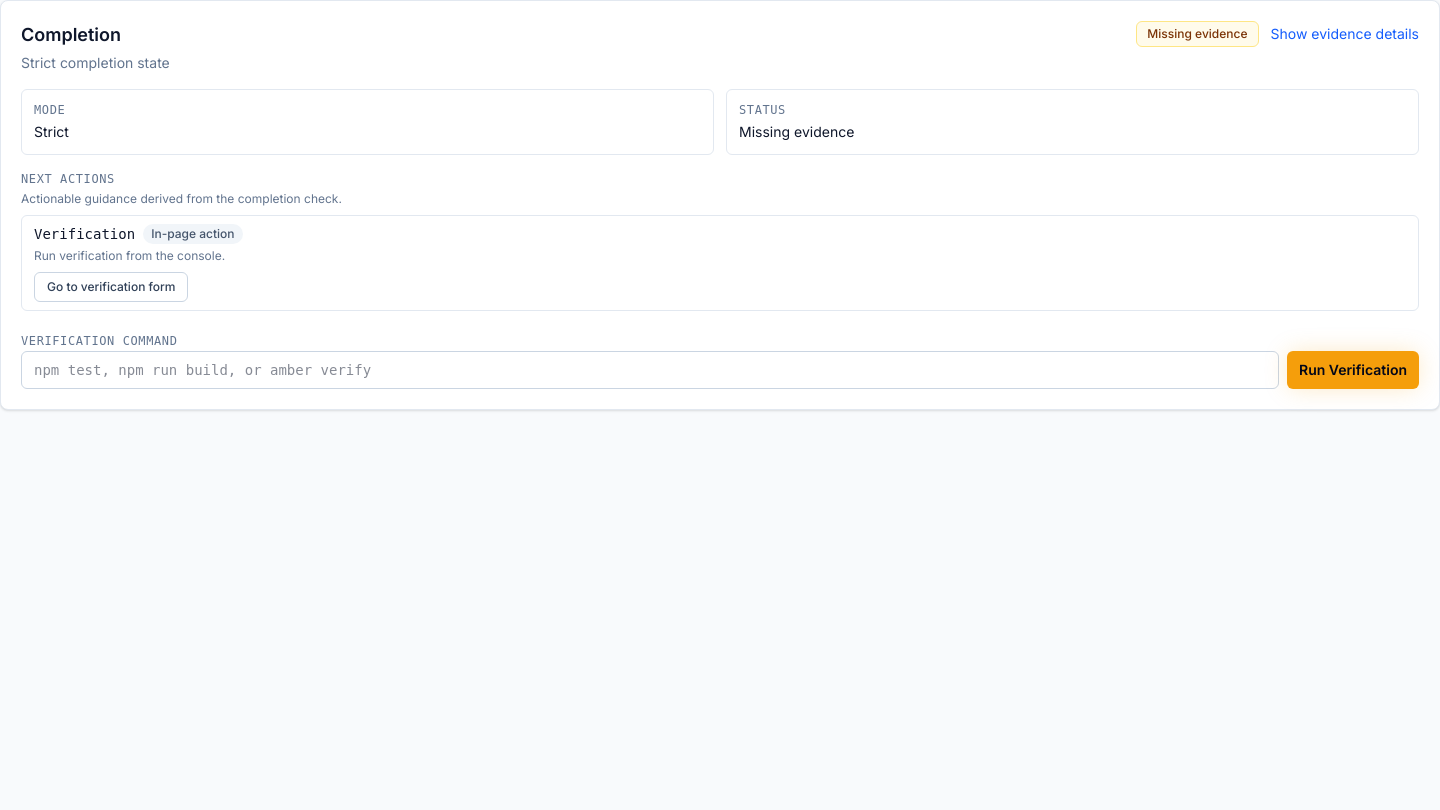
Scenario: SessionCompletionWorkbench primary/secondary layering › expands the secondary region and renders localized backend evidence
Click the button "Show evidence details".
click(1345, 34)  # box [1270,24,1419,44]
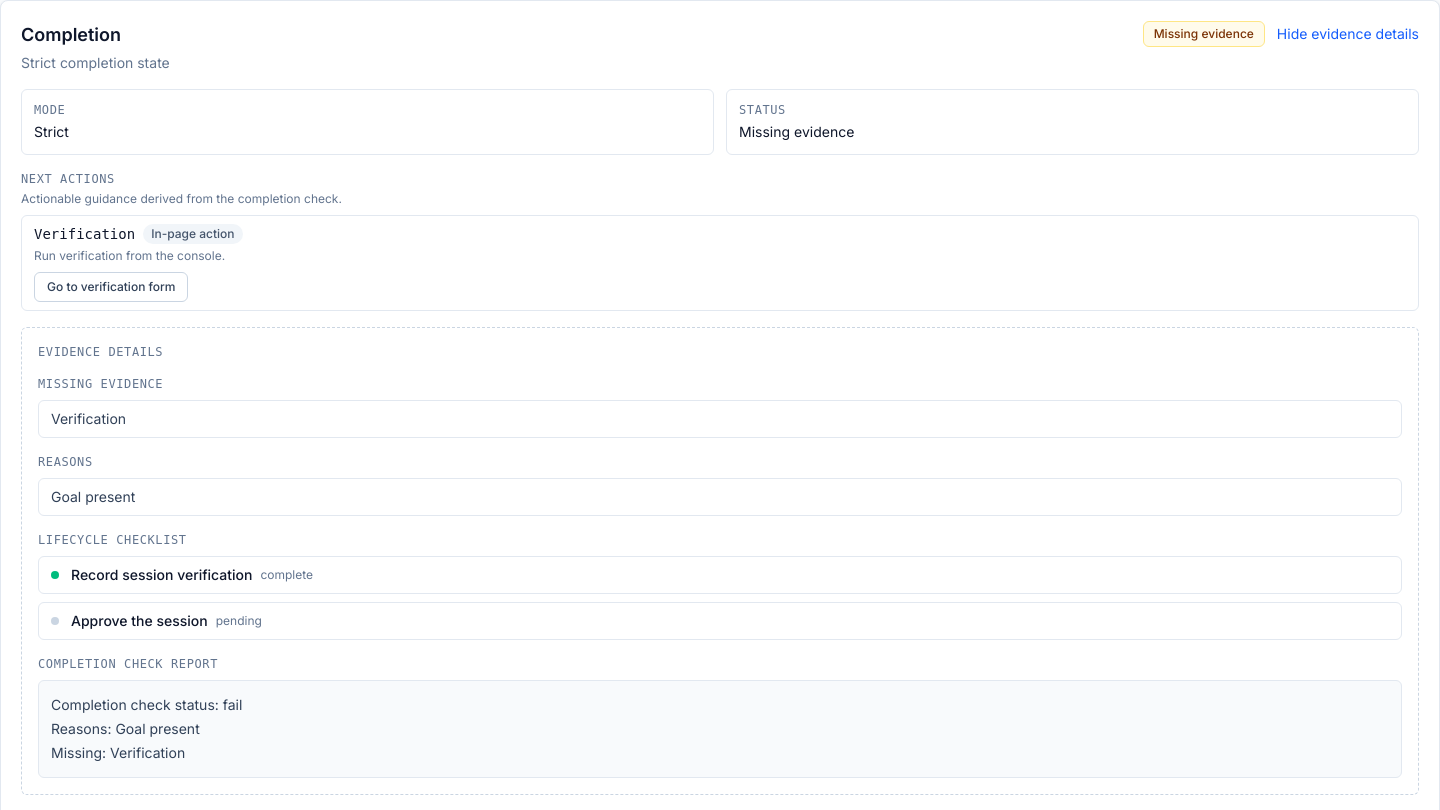
Expected: the button "Hide evidence details" is expanded, [1277,24,1419,44]
Expected: the heading "Missing Evidence" is shown, [38,377,163,391]
Expected: the heading "Reasons" is shown, [38,455,93,469]
